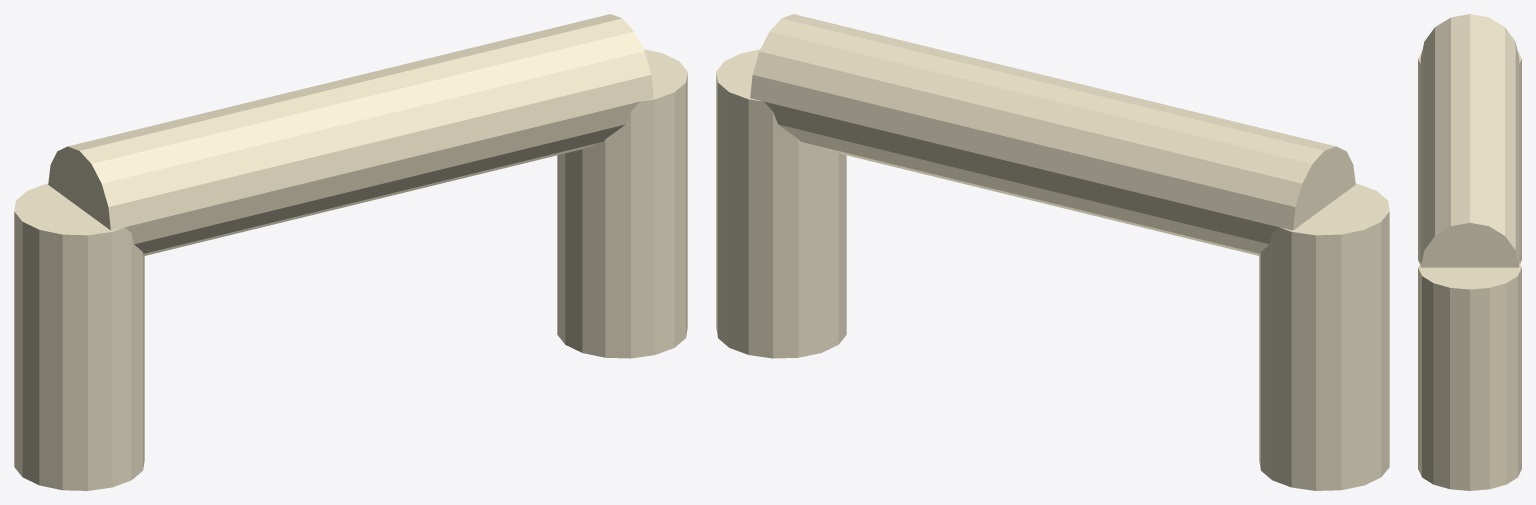
The model's file is handle.glb.
3 renders of one model, left to right at view 1: azimuth 30°, elevation 25°; view 2: azimuth 150°, elevation 25°; view 3: azimuth 270°, elevation 25°, orthographic. The views are drawn at different scales.
Parts seen in each view (by area): view 1: world; view 2: world; view 3: world.
Part boxes in pixels (x1,y1,x2,y2): world: (14,14,687,490); world: (716,14,1389,490); world: (1418,14,1521,490).
Bounding box in the file's own units: 0.0484 × 0.022 × 0.0084.
